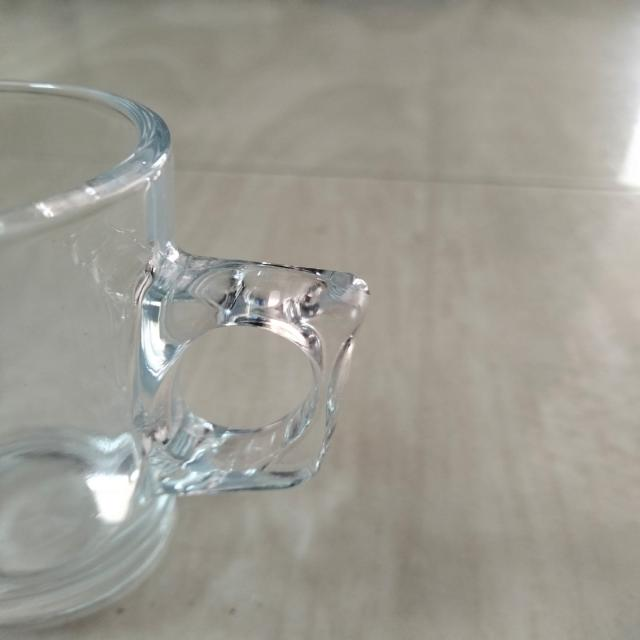glass-VX4N: (0, 75, 368, 640)
